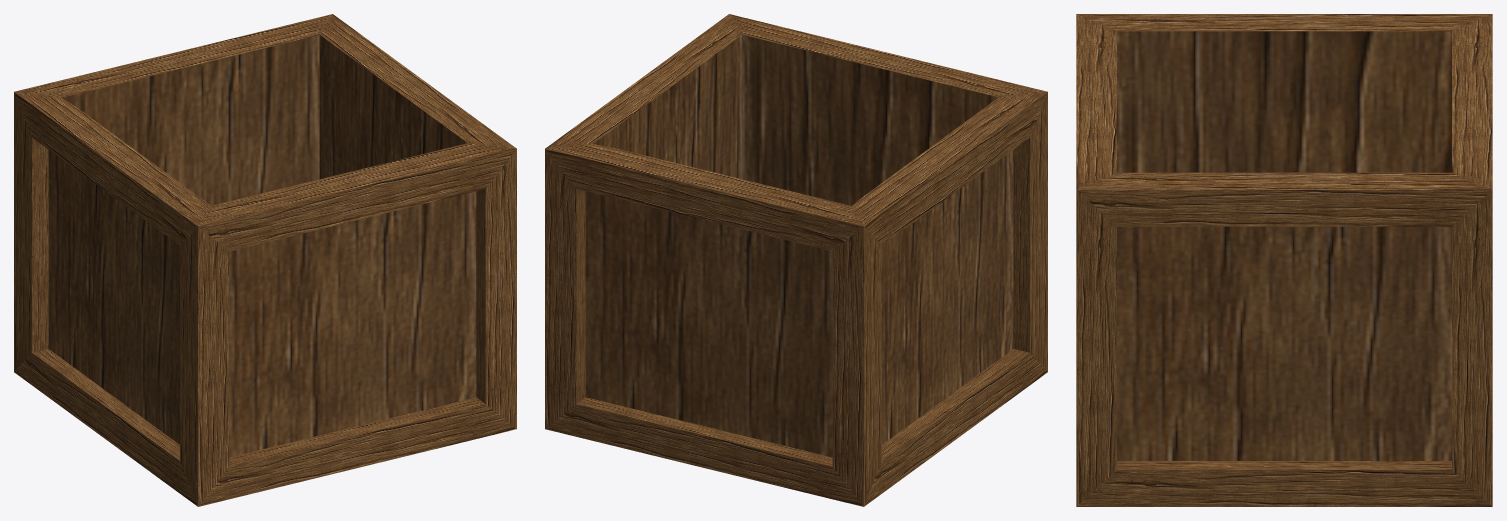
File: Wood_Box_Empty.fbx
3 views of the same model, side by side, from view 1: azimuth 30°, elevation 25°; view 2: azimuth 150°, elevation 25°; view 3: azimuth 270°, elevation 25° (orthographic). The views are drawn at different scales.
Visible parts, largest first — view 1: Wood_Box_Empty; view 2: Wood_Box_Empty; view 3: Wood_Box_Empty.
Boxes of the visible parts, x1,y1,x2,y2 form: Wood_Box_Empty: (14,14,516,506); Wood_Box_Empty: (545,14,1047,506); Wood_Box_Empty: (1076,14,1492,506).
Size of the model in its own units: 57.17 by 48.05 by 57.17.
